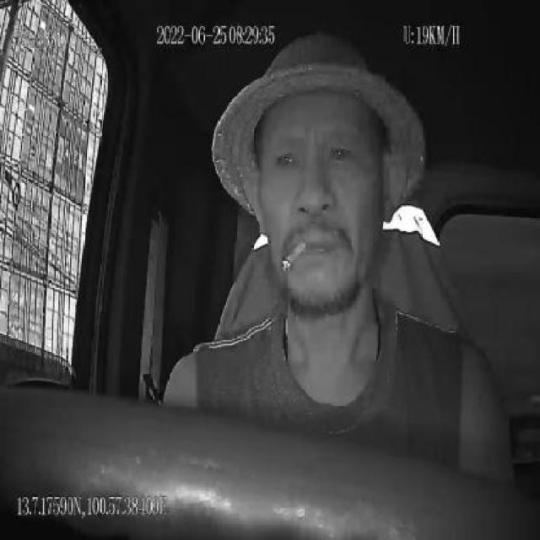smoking: (282, 238, 306, 272)
